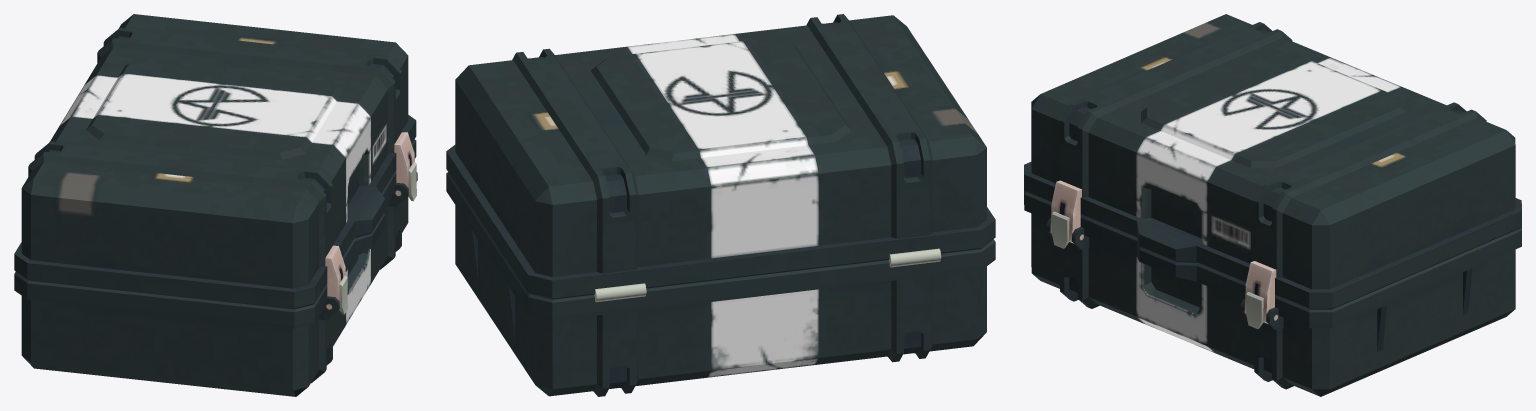
Rendered from AirSupply (4).fbx.
3 renders of one model, left to right at view 1: azimuth 30°, elevation 25°; view 2: azimuth 150°, elevation 25°; view 3: azimuth 270°, elevation 25°, orthographic. The views are drawn at different scales.
Visible parts, largest first — view 1: Box_upper, Crate, Lock_L_01 1, Lock_R_01 1; view 2: Box_upper, Crate; view 3: Box_upper, Crate, Lock_R_01 1, Lock_L_01 1, Lock_R_02 1, Lock_L_02 1.
Part boxes in pixels (x1,y1,x2,y2): Box_upper: [14, 14, 416, 309]; Crate: [14, 139, 417, 396]; Lock_L_01 1: [325, 245, 345, 307]; Lock_R_01 1: [394, 132, 414, 193]; Box_upper: [446, 14, 995, 302]; Crate: [446, 172, 995, 396]; Box_upper: [1024, 14, 1521, 309]; Crate: [1024, 185, 1521, 396]; Lock_R_01 1: [1244, 261, 1276, 323]; Lock_L_01 1: [1050, 180, 1081, 243]; Lock_R_02 1: [1246, 292, 1263, 329]; Lock_L_02 1: [1052, 211, 1069, 248].
Bounding box in the file's own units: 1.56 × 0.682 × 1.57.
Materials: 2 (2 with a texture image).
